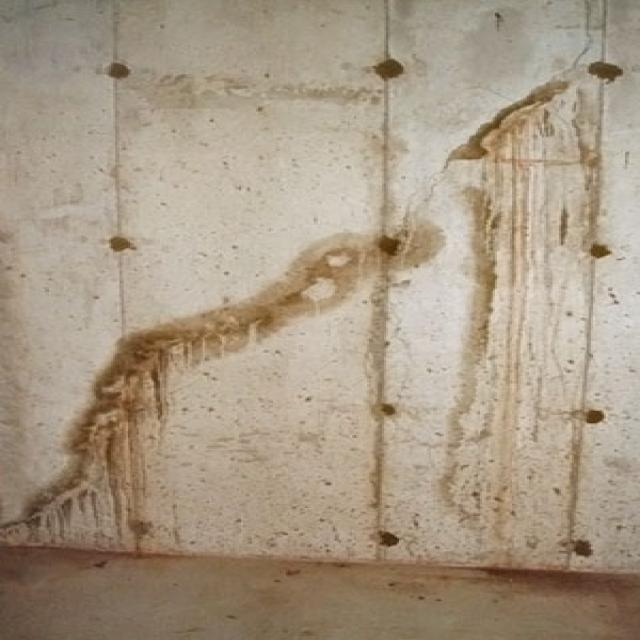Water_Leakage: (2, 28, 640, 618)
